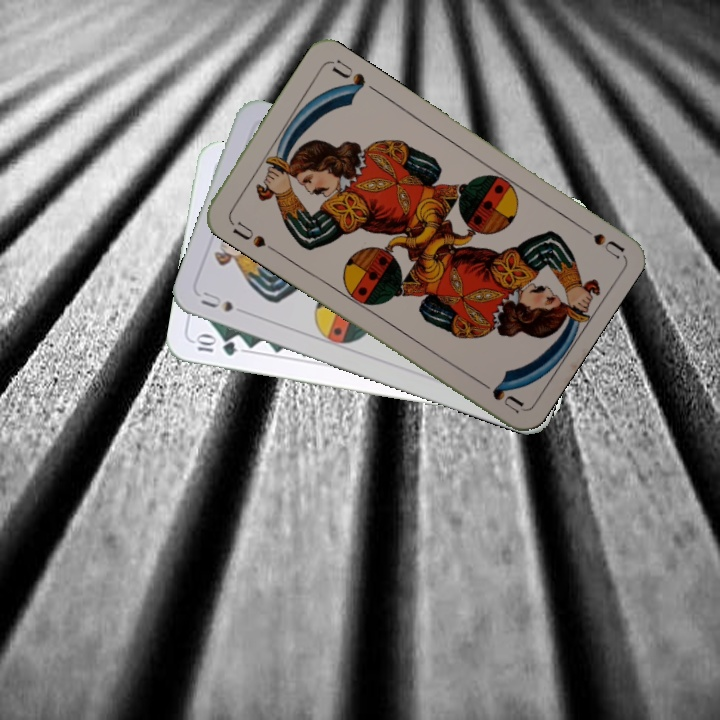G10: (190, 333, 240, 359)
SU: (571, 218, 625, 261), (225, 215, 269, 250), (197, 287, 236, 315)
